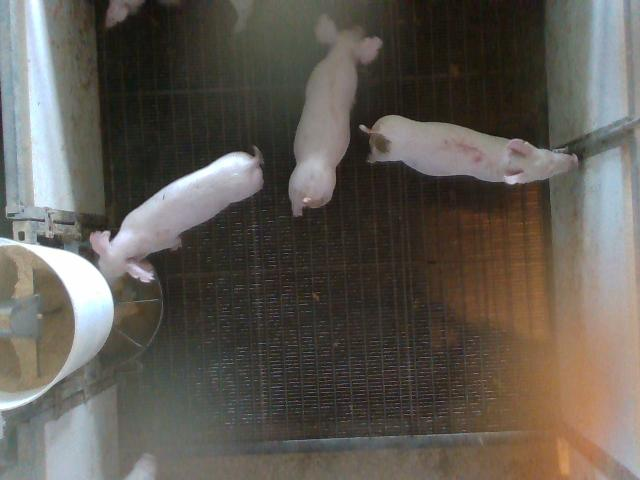pig-5: (360, 115, 578, 183)
